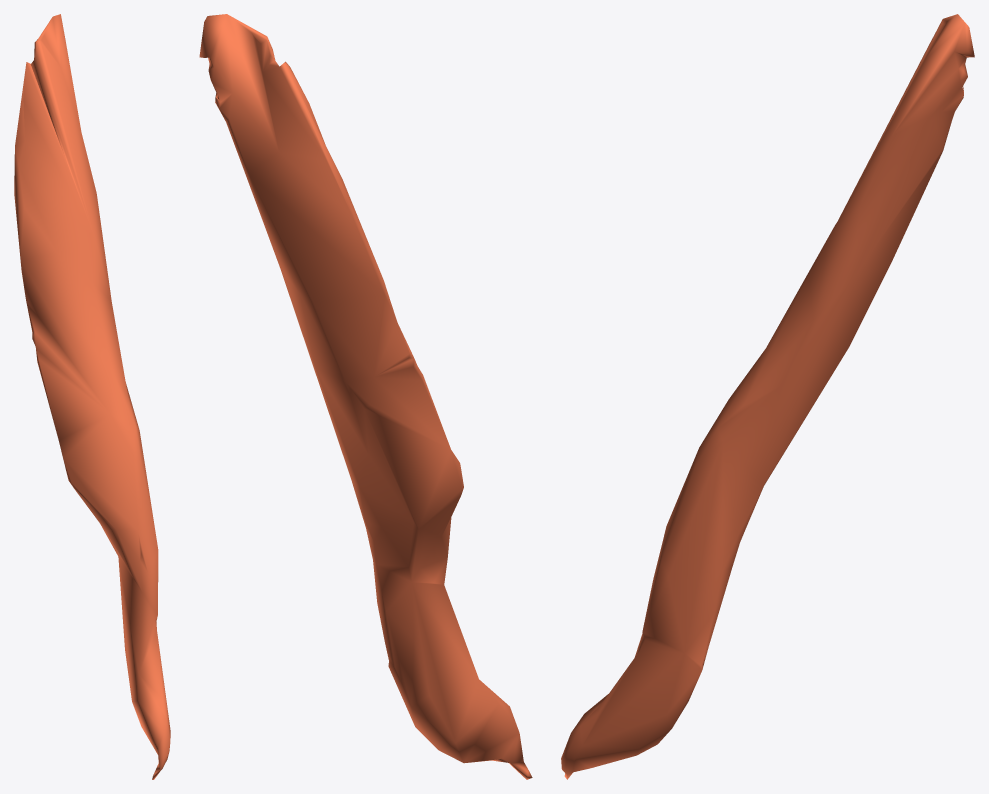
Rendered from Palmar_interossei_hand_left.glb.
The picture shows the model from 3 angles, left to right: view 1: azimuth 30°, elevation 25°; view 2: azimuth 150°, elevation 25°; view 3: azimuth 270°, elevation 25°; orthographic projection. The views are drawn at different scales.
Visible parts, largest first — view 1: Palmar_interossei_muscles_of_hand.l_Generated_Mesh_From_X3D.; view 2: Palmar_interossei_muscles_of_hand.l_Generated_Mesh_From_X3D.; view 3: Palmar_interossei_muscles_of_hand.l_Generated_Mesh_From_X3D..
Part boxes in pixels (box(x1,y1,x2,y2)): Palmar_interossei_muscles_of_hand.l_Generated_Mesh_From_X3D.: box(14, 14, 170, 779); Palmar_interossei_muscles_of_hand.l_Generated_Mesh_From_X3D.: box(199, 14, 532, 779); Palmar_interossei_muscles_of_hand.l_Generated_Mesh_From_X3D.: box(561, 14, 974, 779).
Size of the model in its own units: 0.0057 by 0.0386 by 0.0181.
